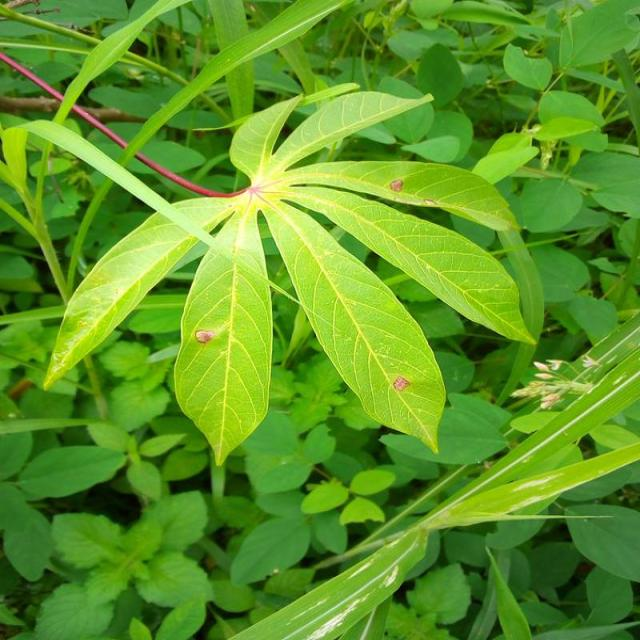cassava leaf: (20, 81, 538, 463), (173, 206, 273, 466)
